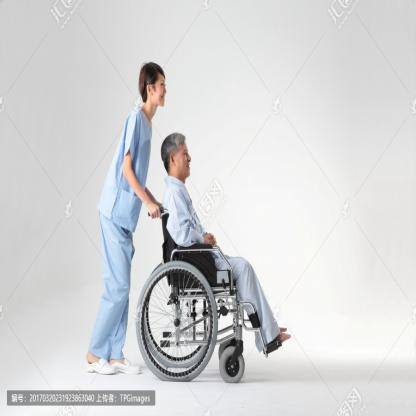wheelchair: (131, 133, 293, 384)
